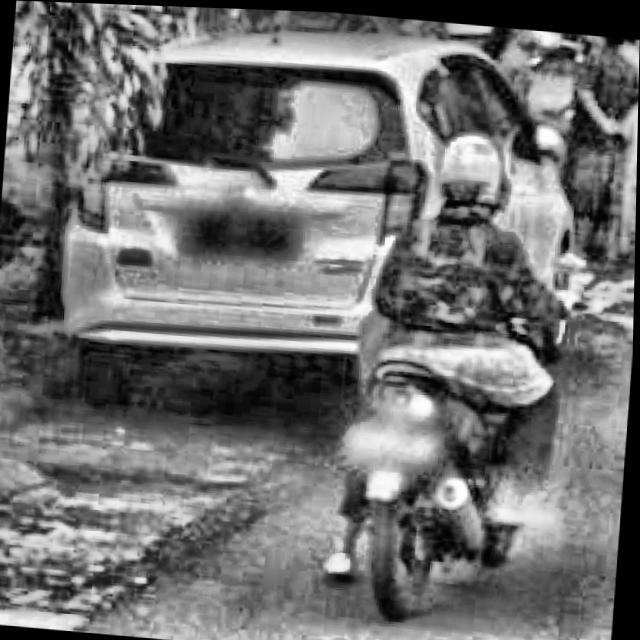motorcycle: (309, 234, 620, 638)
